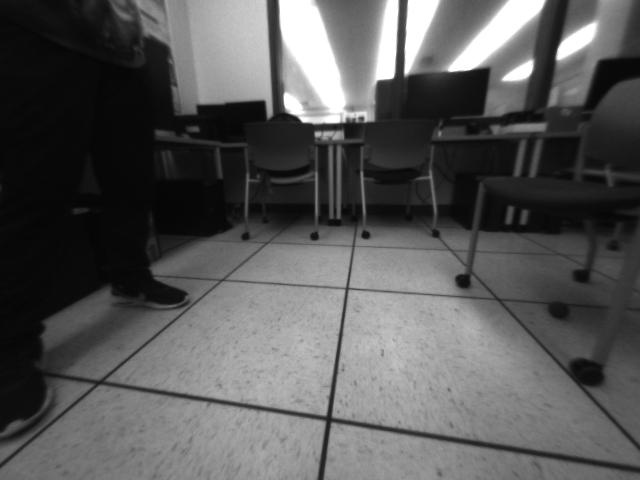dogtoy: (542, 291, 574, 324)
